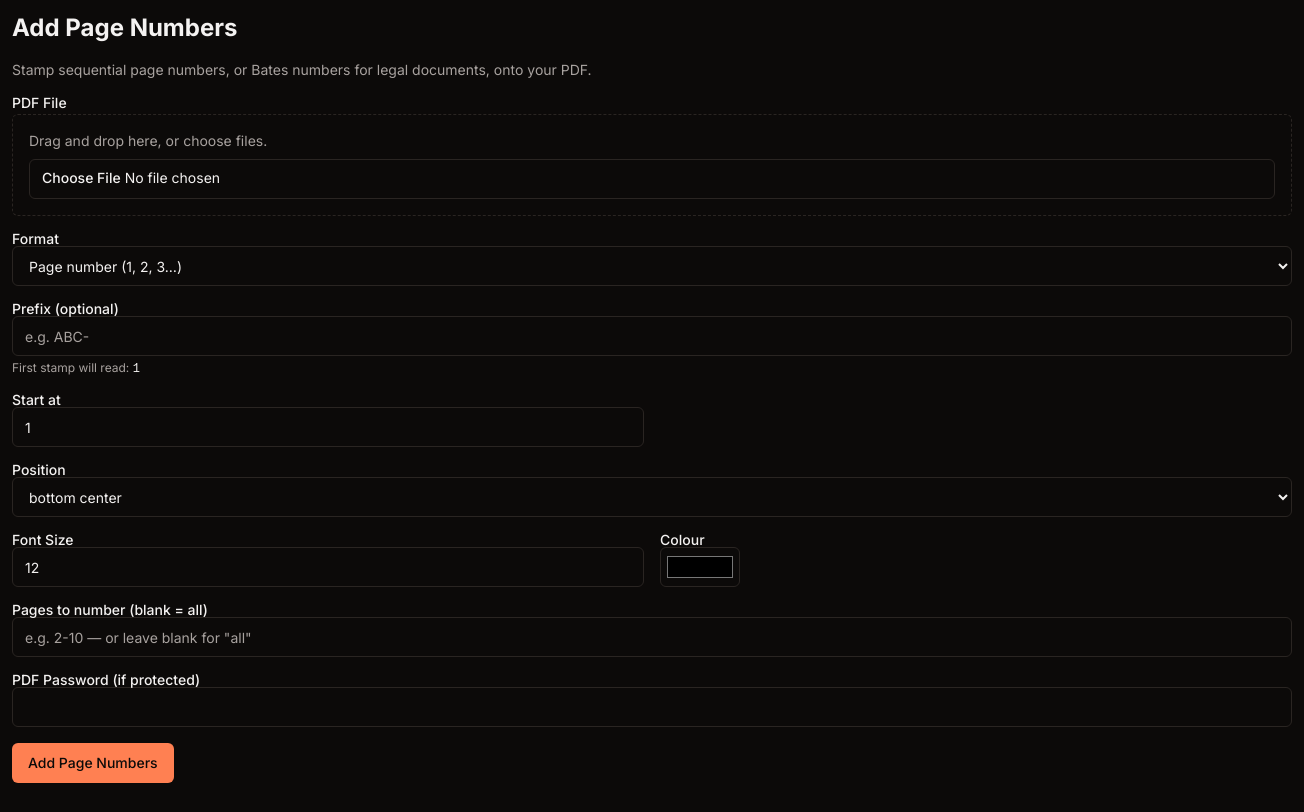
Test: PageNumbersTool (T-10 / F-6) › previews the first stamp before anything is processed
Expected: the text "First stamp will read: 1" is shown, [12,360,140,376]
Step 1. Select "Bates (zero-padded)" in the dropdown labelled "Format" → (652,266), box [12,246,1292,286]
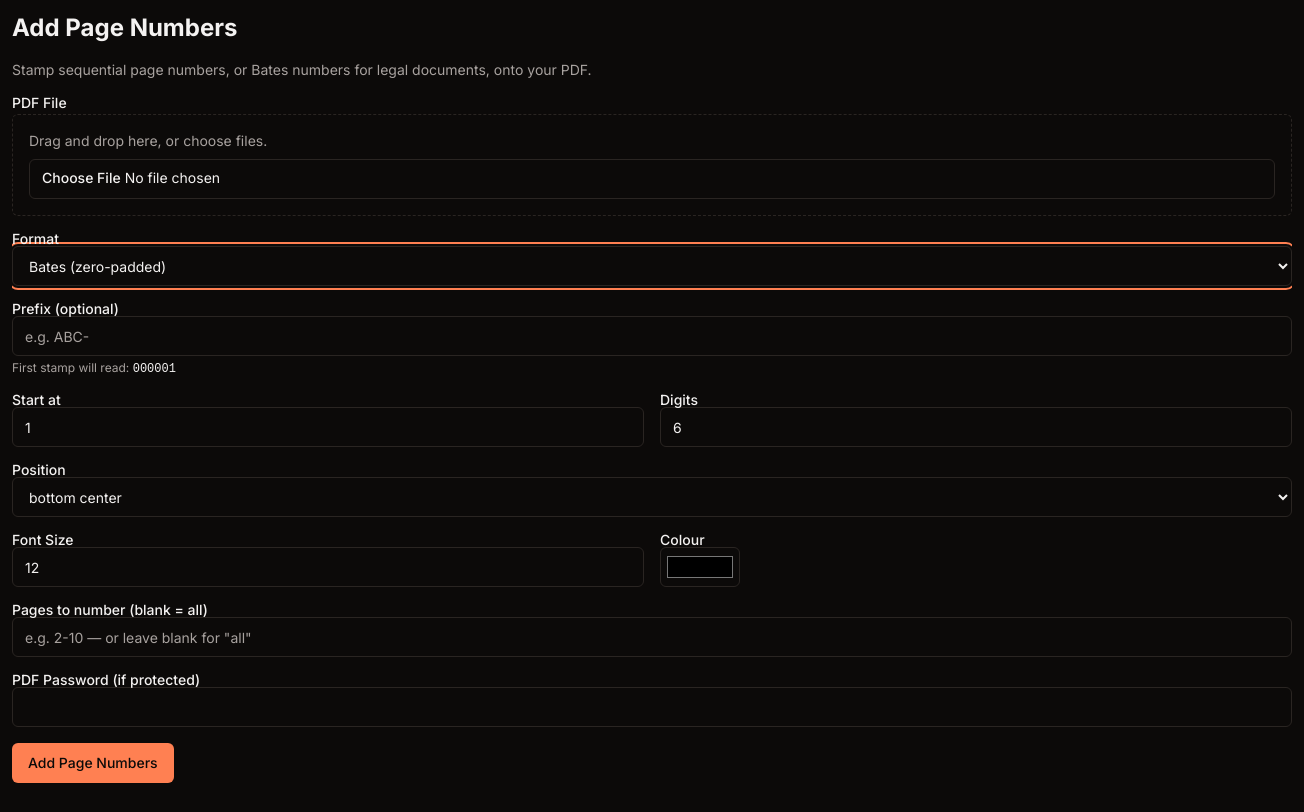
Now the text "First stamp will read: 000001" is shown, box [12,360,176,376]
